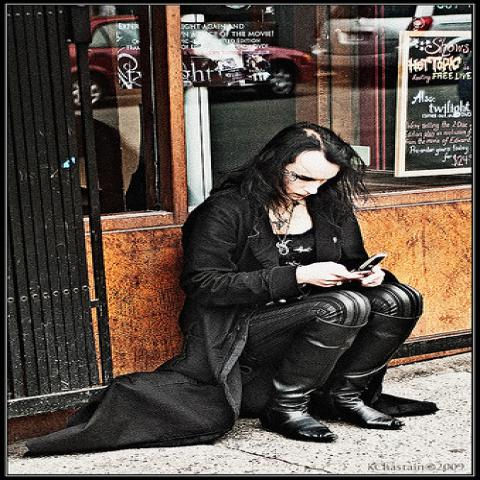car: (68, 15, 314, 108), (331, 5, 475, 80)
